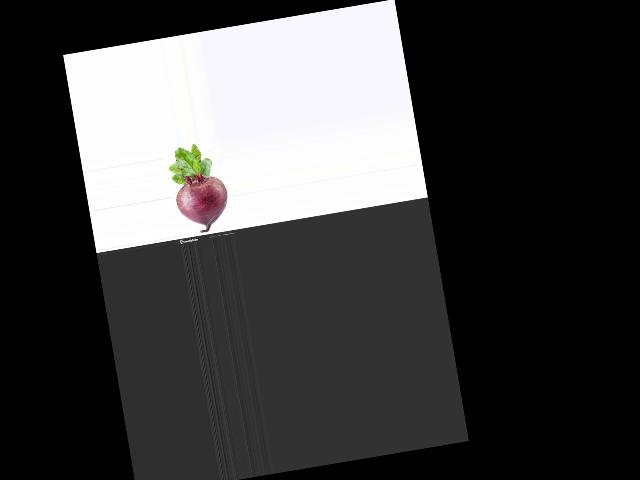beet: (165, 139, 233, 235)
